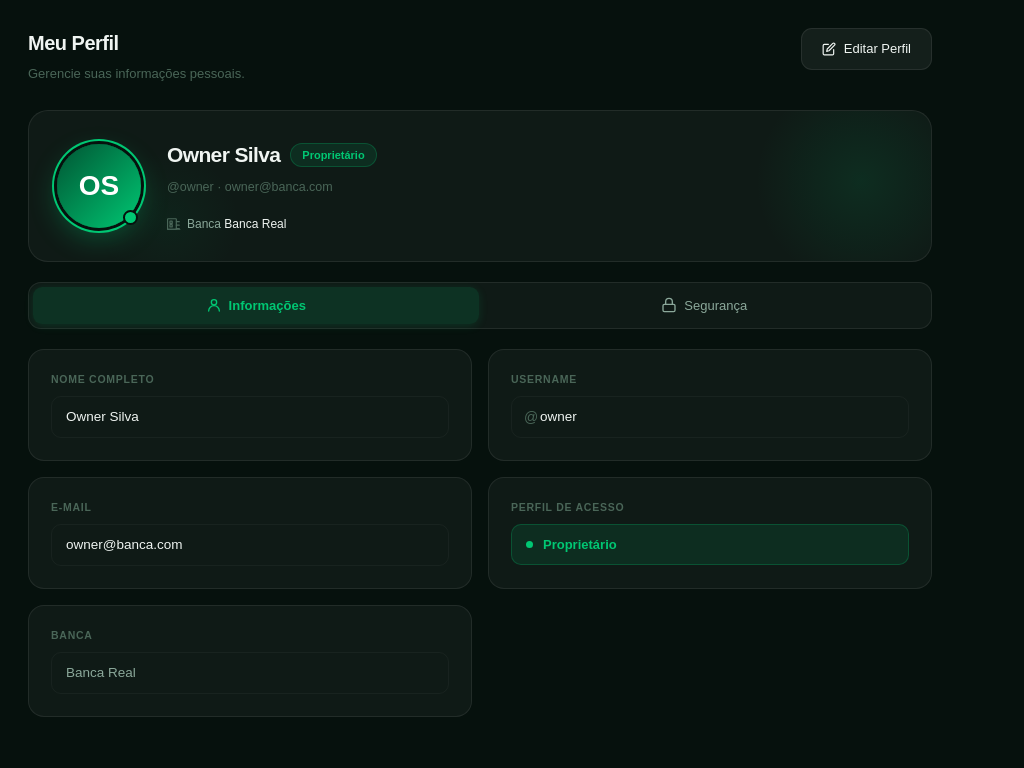
Scenario: PerfilPage › a aba Segurança renderiza sessões reais vindas de listSessions(), sem dado de amostra
Expected: the field showing "Owner Silva" is shown, [51,396,449,438]
Click the tab "Segurança": [704, 305] box [482,287,927,324]
(page scrolled)
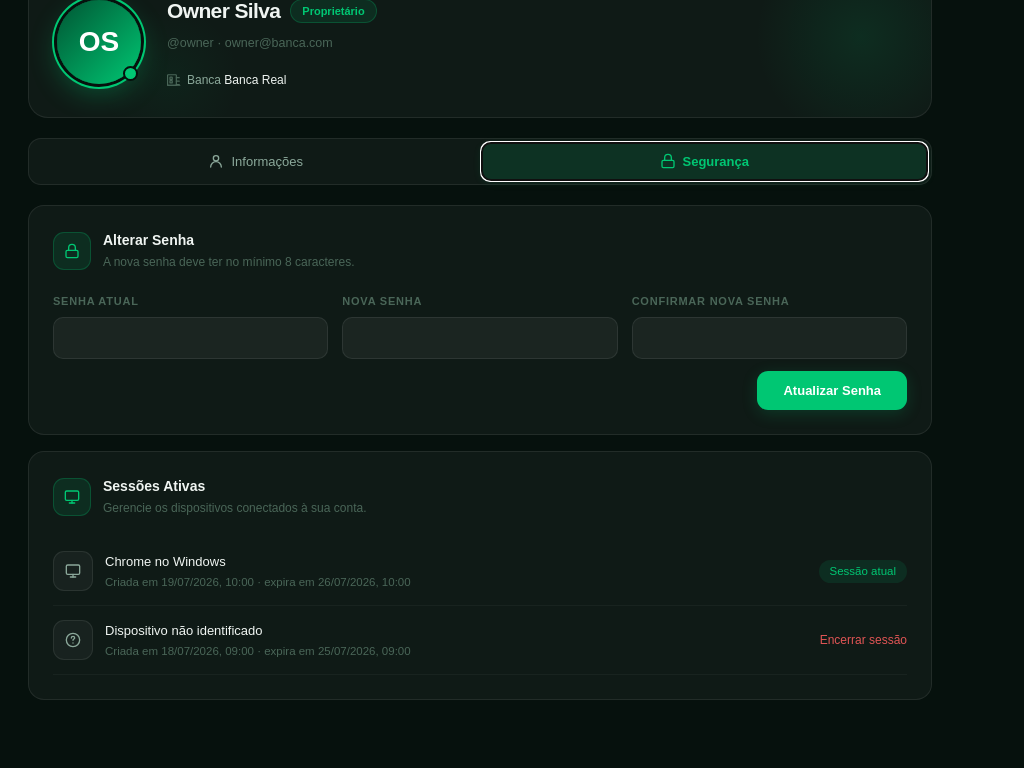
Now the text "Sessão atual" is shown, box [818,560,907,583]
Now the text "Chrome no Windows" is shown, box [105,554,226,569]
Now the button "Encerrar sessão" is shown, box [820,631,907,649]
